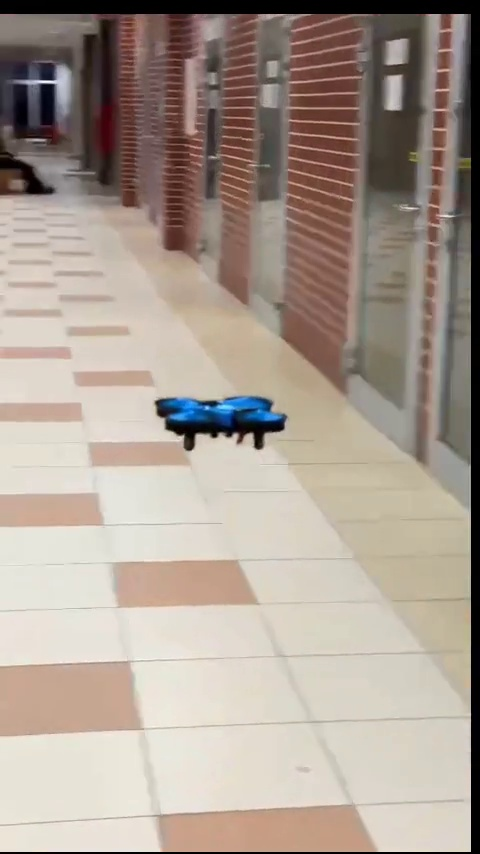drone: (144, 394, 278, 449)
